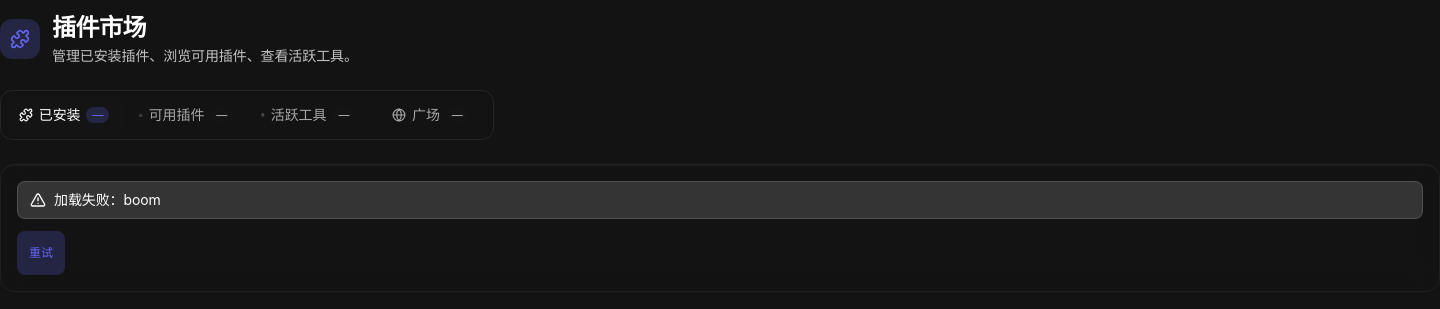
Test: Plugins page integration › recovers when 重试 succeeds after a failed first load
The width and height of the screenshot is (1440, 309).
Expected: the message "加载失败：boom" is shown, [17,181,1423,219]
Click the button "重试" at (41, 253), box [17,231,65,275]
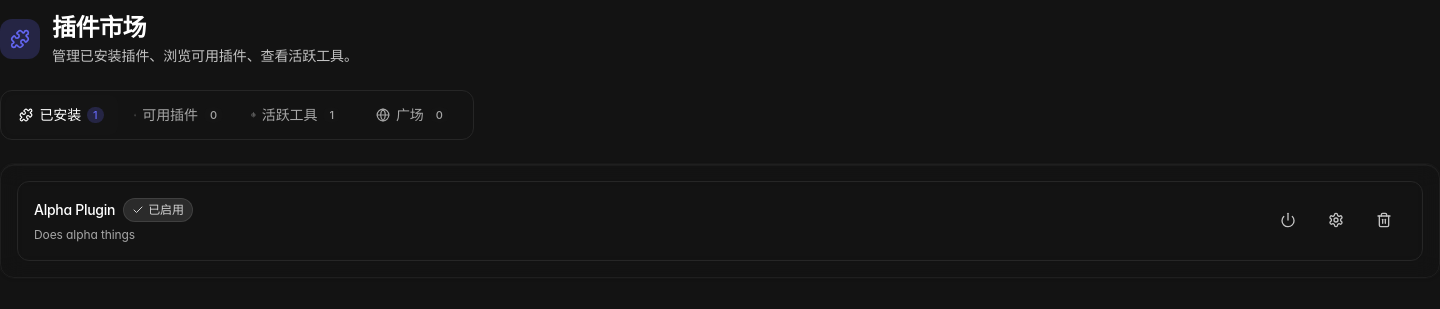
Now the heading "Alpha Plugin" is shown, box [34,200,115,220]
Now the message "加载失败：boom" is gone
